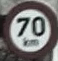Speed limit: (2, 6, 51, 52)
